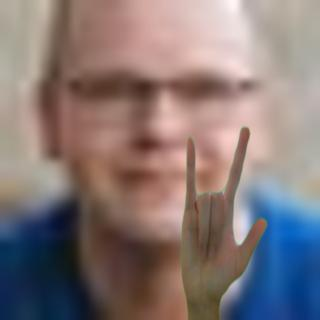ILY: (174, 124, 271, 307)
